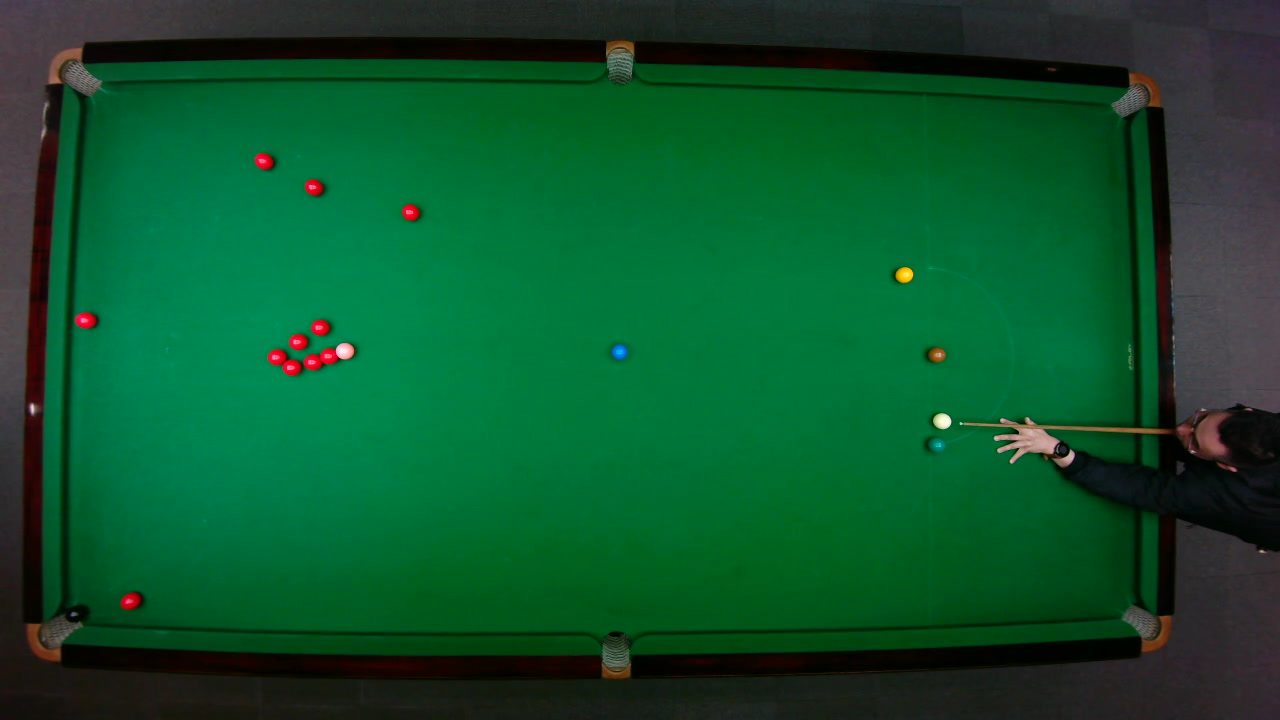bag: (25, 608, 83, 661), (46, 46, 102, 96), (1119, 603, 1172, 653), (1108, 71, 1161, 118), (600, 629, 630, 680), (605, 38, 633, 85)
black: (64, 605, 85, 622)
blue: (610, 343, 627, 360)
brown: (926, 346, 946, 362)
cue: (958, 421, 1218, 436)
green: (925, 435, 945, 452)
pink: (333, 341, 355, 360)
red: (118, 590, 142, 610), (73, 310, 97, 328), (303, 177, 324, 196), (253, 151, 274, 170), (265, 348, 287, 366), (400, 202, 420, 221), (281, 358, 302, 376), (287, 332, 308, 350), (309, 317, 330, 335), (302, 352, 323, 370), (318, 346, 337, 365)
white: (930, 411, 951, 429)
yellow: (893, 265, 914, 283)
zone: (927, 267, 1014, 438)
